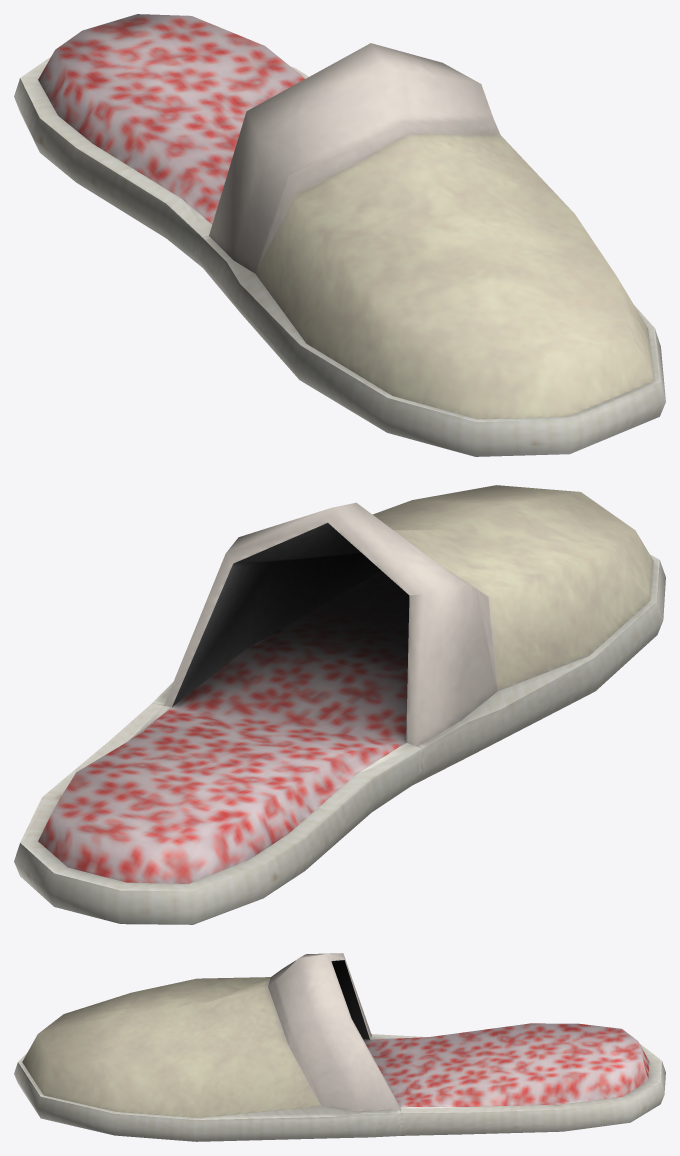
The model's file is M_Home_Garden_Slipper_01.fbx.
3 renders of one model, top to bottom at view 1: azimuth 30°, elevation 25°; view 2: azimuth 150°, elevation 25°; view 3: azimuth 270°, elevation 25°, orthographic. The views are drawn at different scales.
Parts seen in each view (by area): view 1: M_Home_Garden_Slipper_01; view 2: M_Home_Garden_Slipper_01; view 3: M_Home_Garden_Slipper_01.
Boxes of the visible parts, x1,y1,x2,y2 form: M_Home_Garden_Slipper_01: [14, 14, 665, 456]; M_Home_Garden_Slipper_01: [14, 485, 665, 924]; M_Home_Garden_Slipper_01: [14, 953, 665, 1141].
Bounding box in the file's own units: 11.34 × 7.73 × 31.43.
